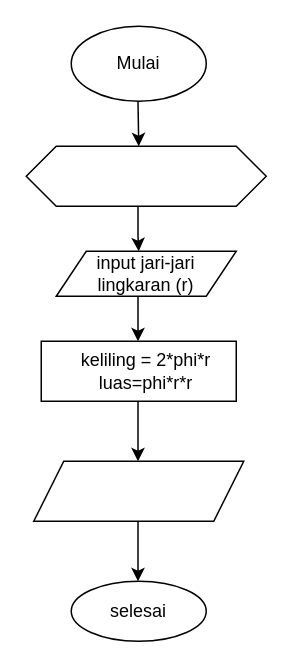
This 293x668 diagram has some shape labels left out. The centre of each missing label's shape, as x and y in pixels:
int r double keliling, luas, phi: pixel 145 175
tampilkan luas dan keliling: pixel 138 490
